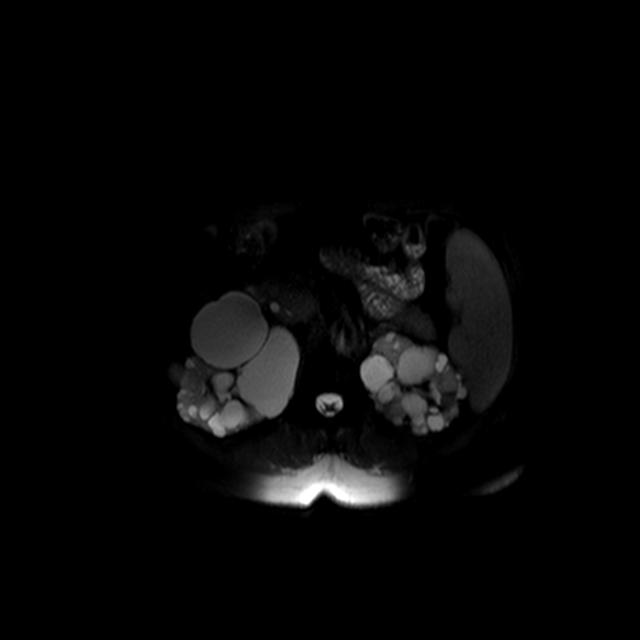sag: (176, 291, 300, 437)
sol: (362, 332, 468, 434)
